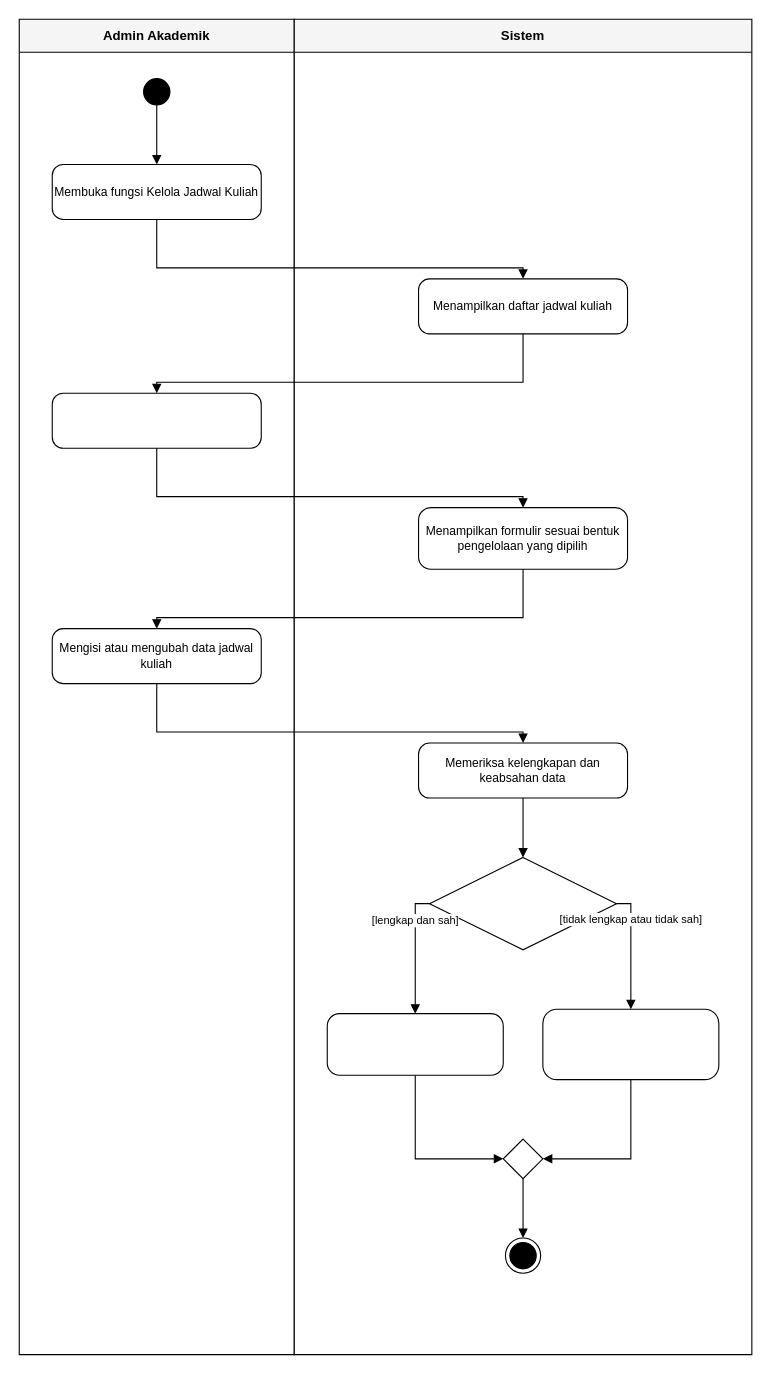
Image size: 771x1374. Some labels were removed from this diagram. Each missing label, with the centre of its shape:
Data lengkap dan sah?: point 522,903
Memilih bentuk pengelolaan jadwal kuliah: point 156,420
Menolak penyimpanan dan menampilkan pesan kesalahan data: point 630,1044
Menyimpan perubahan dan menampilkan konfirmasi: point 414,1044
